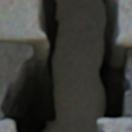broken_brick: (0, 0, 45, 43), (115, 0, 131, 48), (97, 119, 131, 131), (0, 120, 15, 131)
crack: (0, 0, 131, 131)
